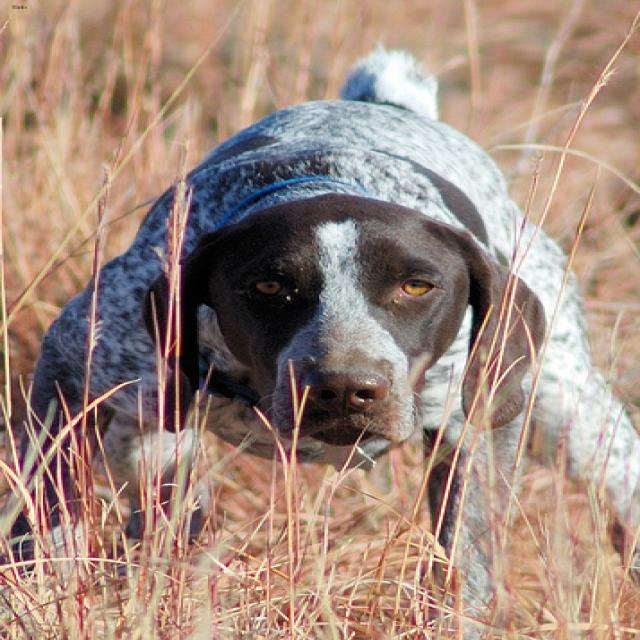dog-german_shorthaired: (2, 32, 636, 637)
